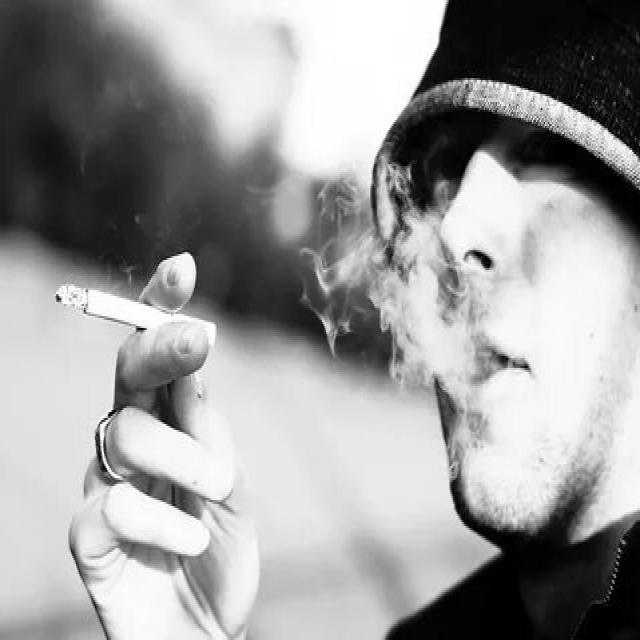cigarette: (46, 274, 219, 364)
